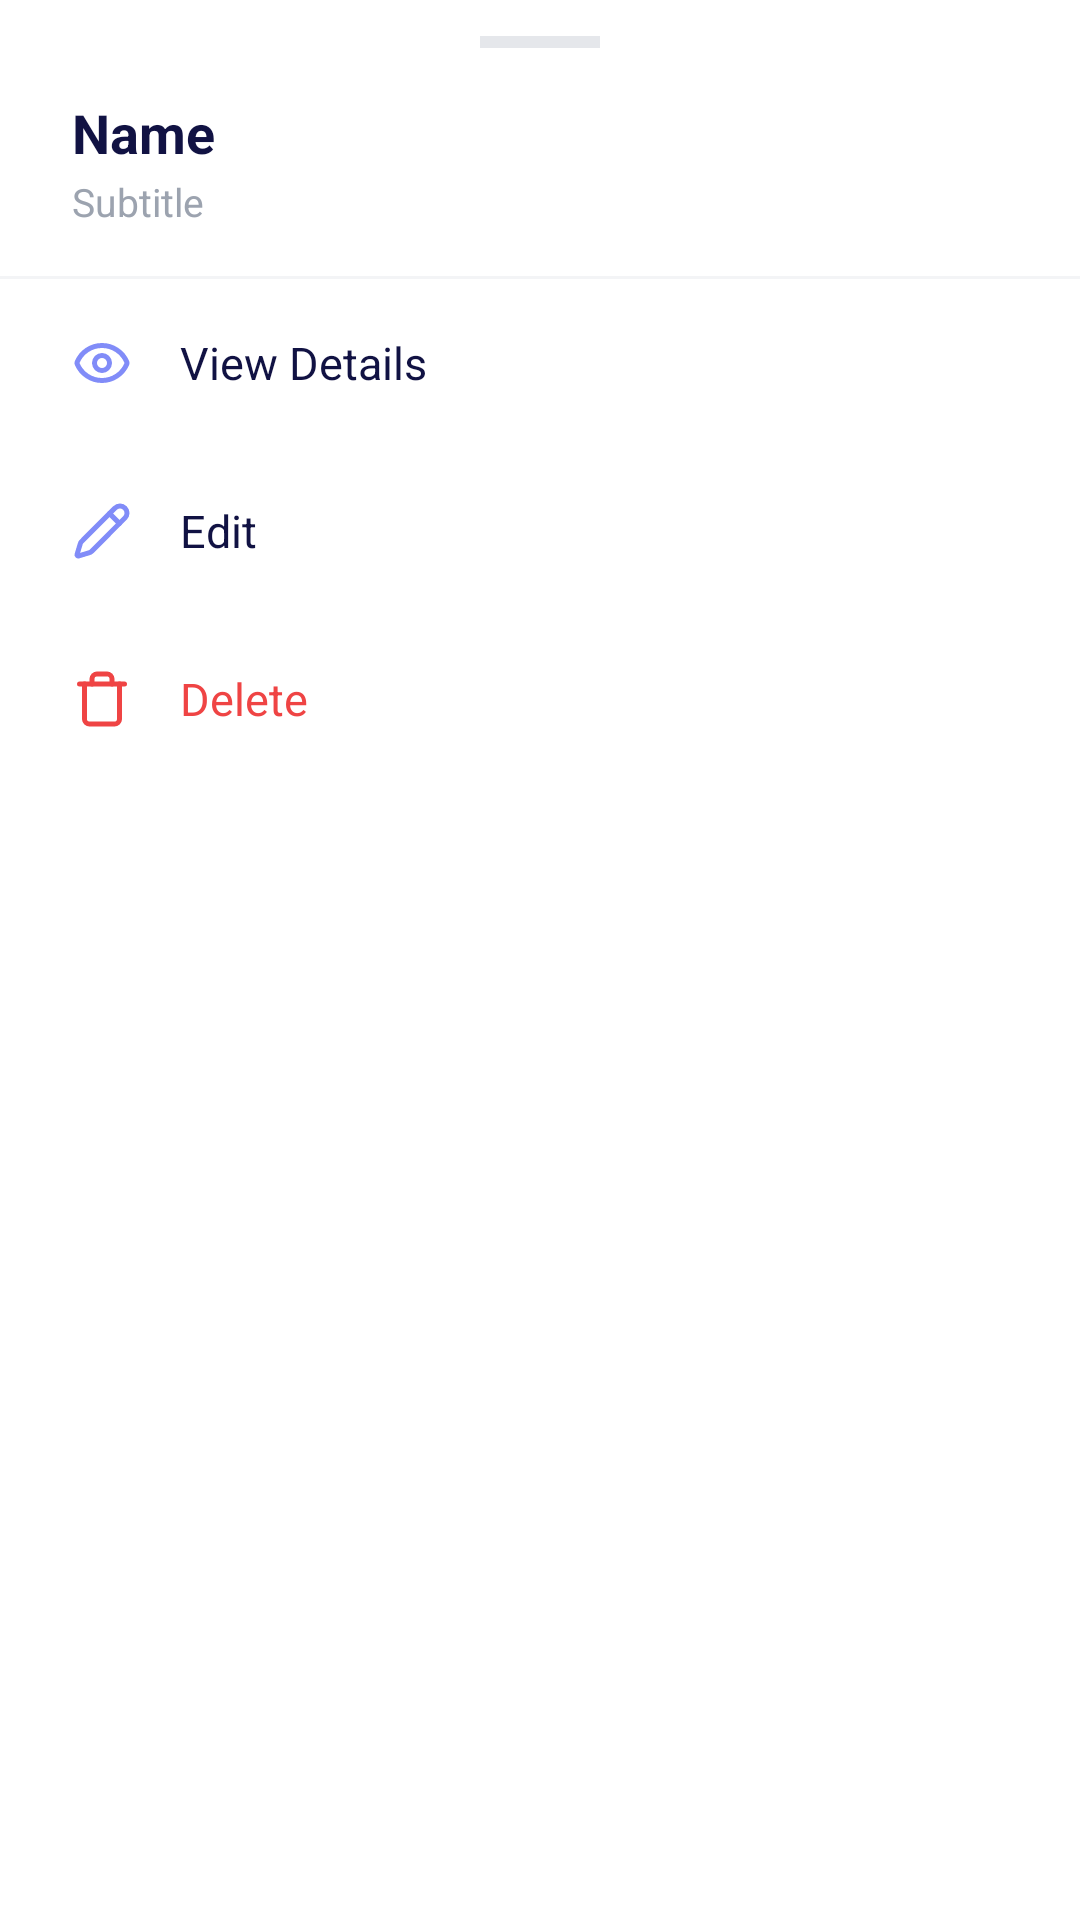

Icons on this 1080 x 1920 Android screen, each with its box as Rect(x1, y1, x2, y2):
eye: Rect(74, 343, 130, 383)
trash: Rect(77, 671, 127, 727)
